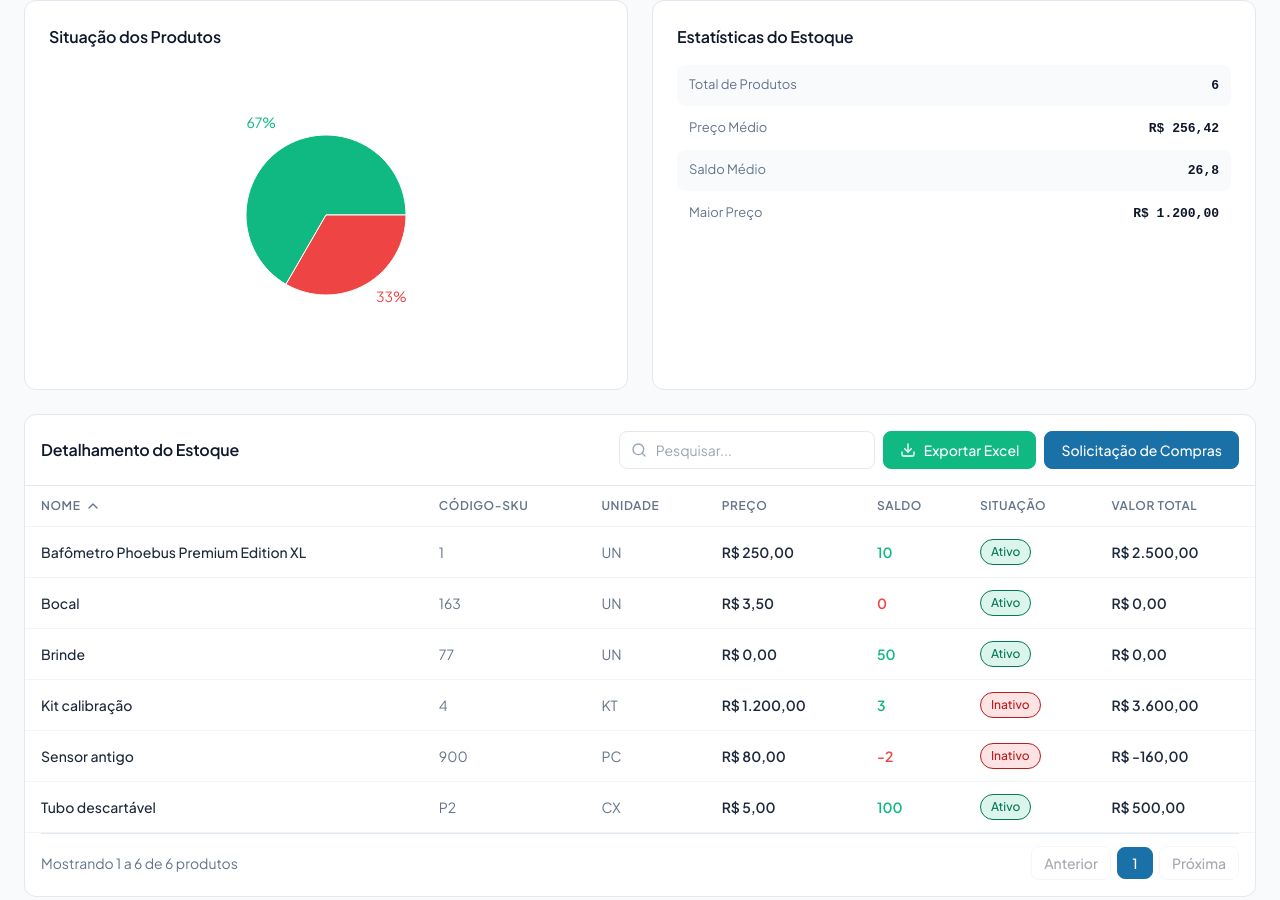
Test: exportar com a tabela vazia em Estoque › fica desabilitado, e volta quando a pesquisa acha de novo
(page scrolled)
Type "zzz-nao-existe" into the field with placeholder "Pesquisar..." at (747, 450), box [619, 431, 875, 469]
(page scrolled)
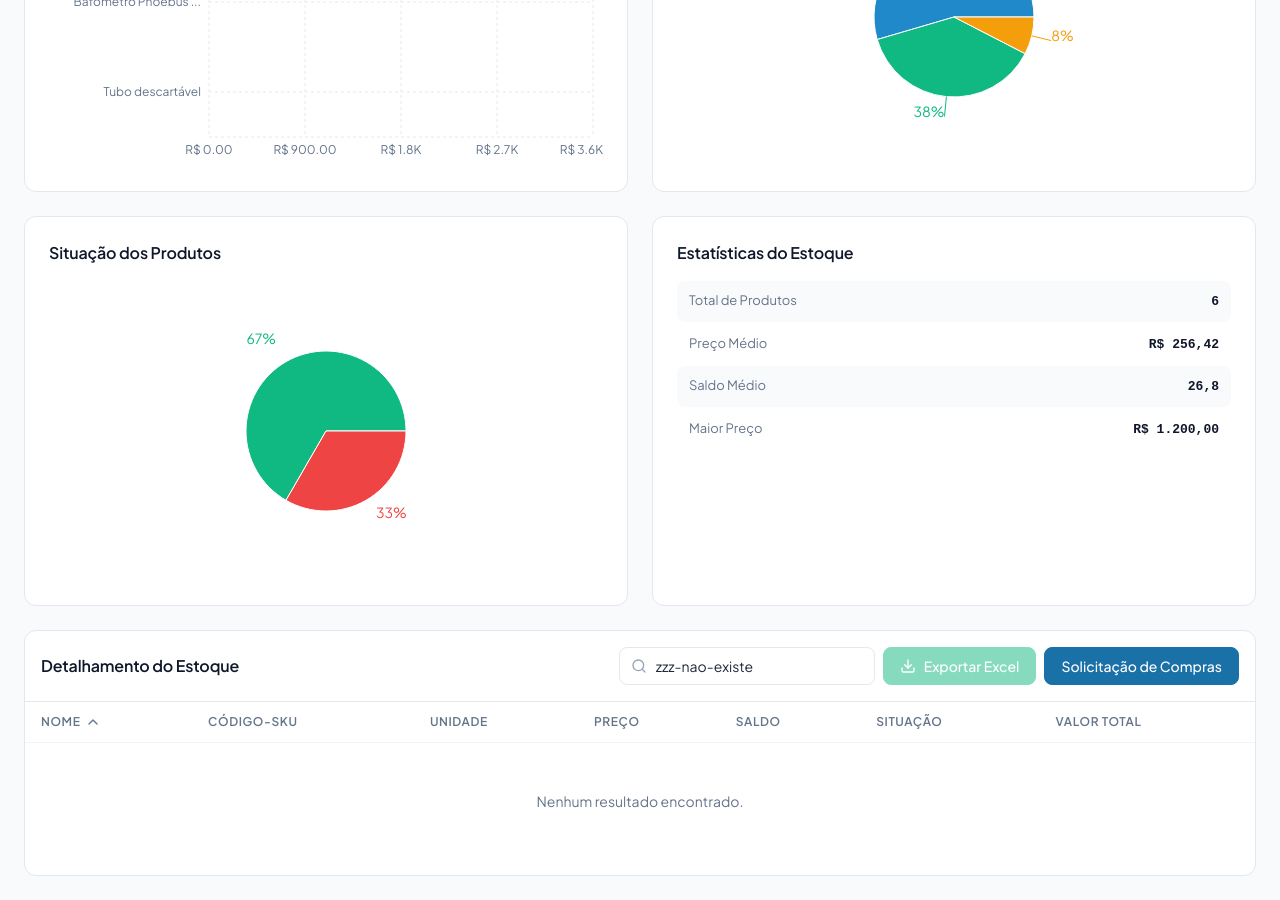
Result: the button "Exportar Excel" is disabled at [883, 647, 1036, 685]
Clear the field with placeholder "Pesquisar..." at (747, 666), box [619, 647, 875, 685]
(page scrolled)
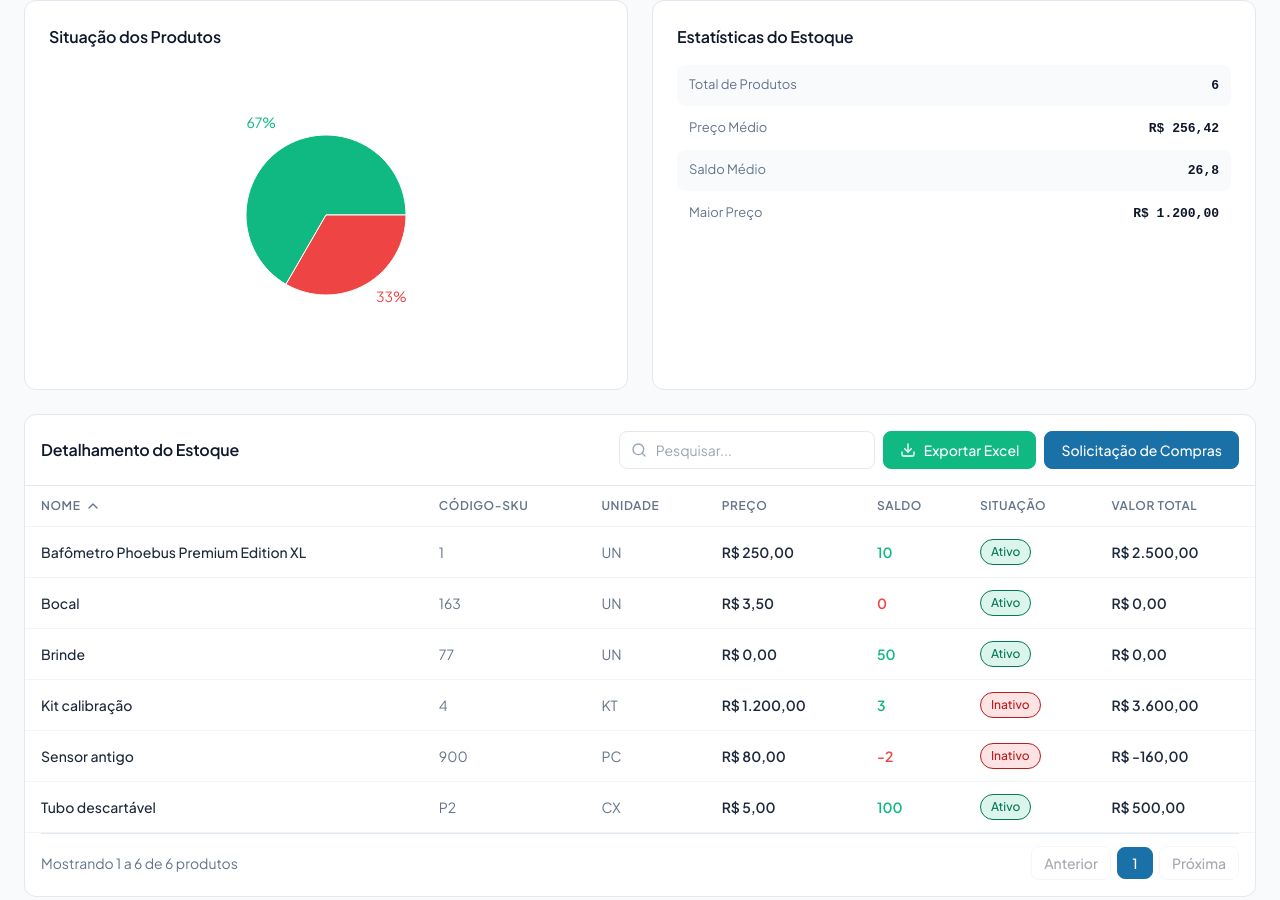
Result: the button "Exportar Excel" is enabled at [883, 431, 1036, 469]
